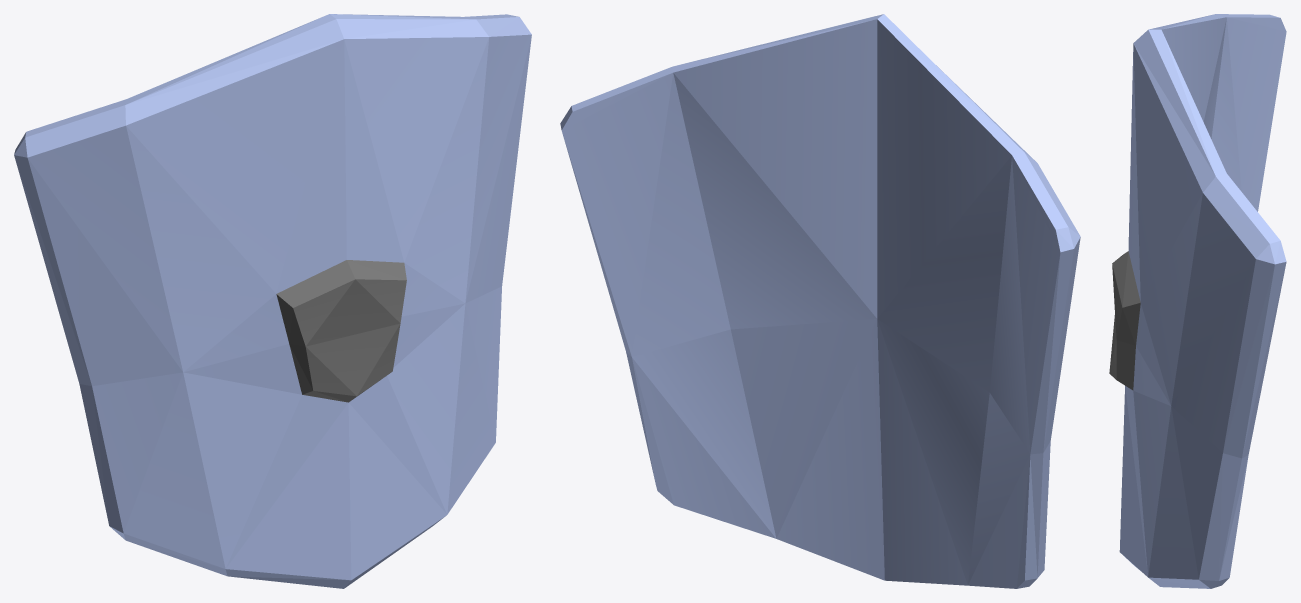
File: Shield.fbx
3 views of the same model, side by side, from view 1: azimuth 30°, elevation 25°; view 2: azimuth 150°, elevation 25°; view 3: azimuth 270°, elevation 25° (orthographic). The views are drawn at different scales.
Visible parts, largest first — view 1: pCube3; view 2: pCube3; view 3: pCube3.
Boxes of the visible parts, bbox=[...] form: pCube3: bbox=[14, 14, 531, 588]; pCube3: bbox=[560, 14, 1080, 588]; pCube3: bbox=[1109, 14, 1286, 588].
Bounding box in the file's own units: 89.67 × 94.58 × 28.34.
